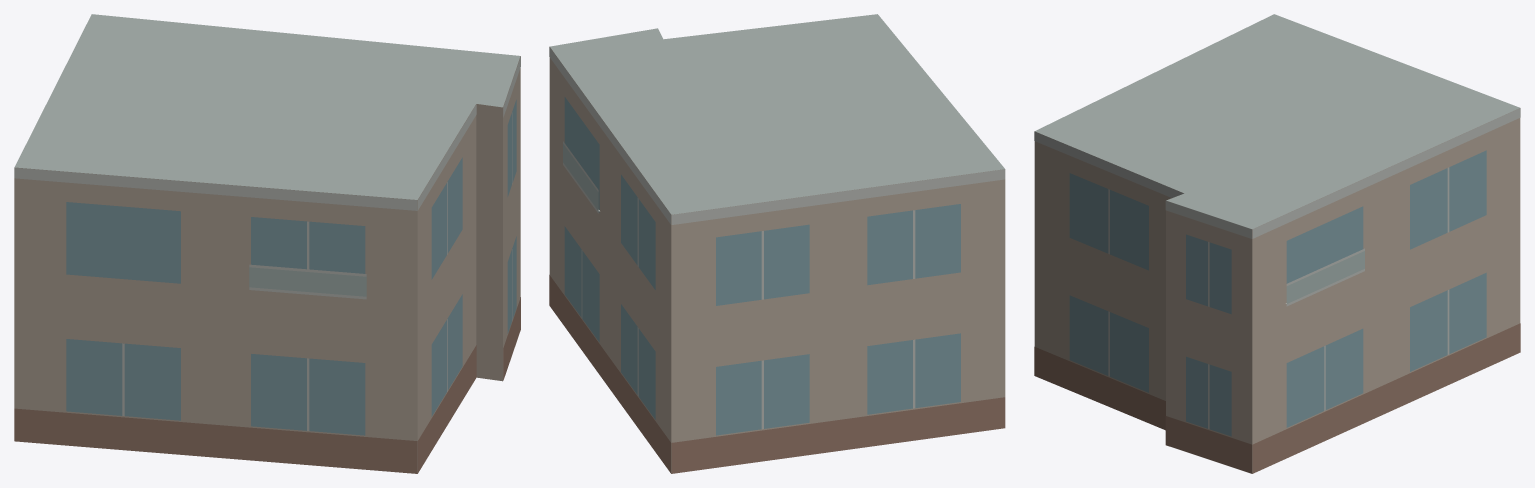
Rendered from survey-upis-32512484.glb.
The picture shows the model from 3 angles, left to right: view 1: azimuth 30°, elevation 25°; view 2: azimuth 150°, elevation 25°; view 3: azimuth 270°, elevation 25°; orthographic projection. The views are drawn at different scales.
Visible parts, largest first — view 1: survey-upis-32512484.tmp; view 2: survey-upis-32512484.tmp; view 3: survey-upis-32512484.tmp.
Boxes of the visible parts, bbox=[...] form: survey-upis-32512484.tmp: bbox=[14, 14, 520, 473]; survey-upis-32512484.tmp: bbox=[549, 14, 1005, 473]; survey-upis-32512484.tmp: bbox=[1034, 14, 1520, 473].
Bounding box in the file's own units: 11.52 × 6.1 × 10.99.
